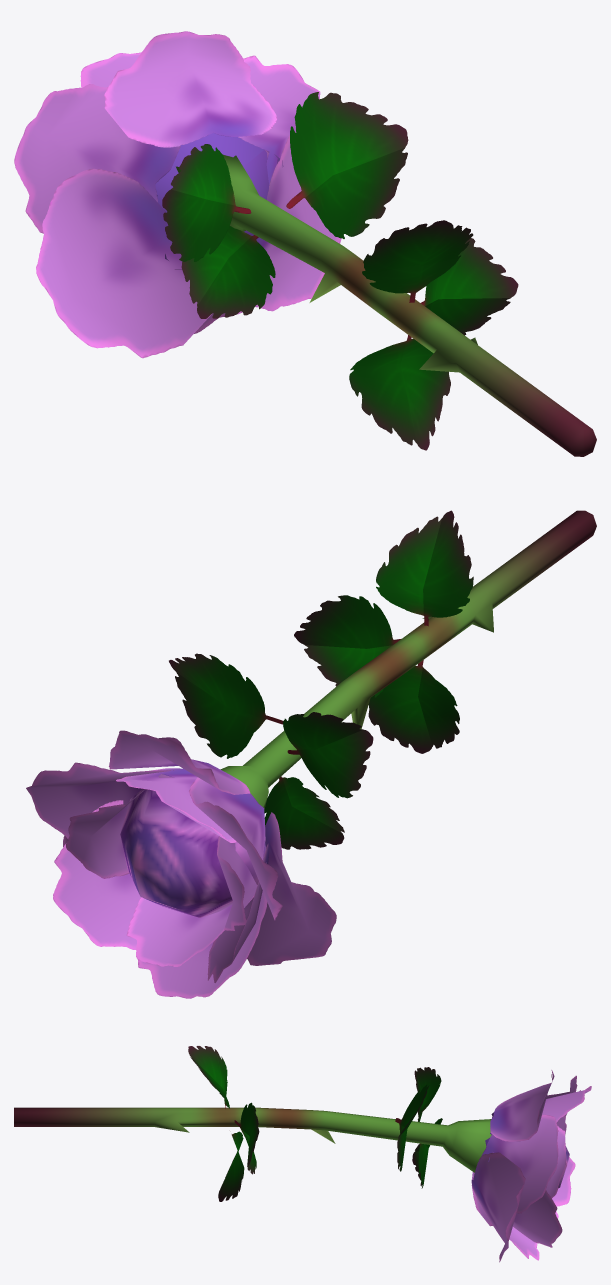
Rendered from SM_Rose_Lilac_Open.fbx.
The picture shows the model from 3 angles, top to bottom: view 1: azimuth 30°, elevation 25°; view 2: azimuth 150°, elevation 25°; view 3: azimuth 270°, elevation 25°; orthographic projection. The views are drawn at different scales.
Parts seen in each view (by area): view 1: Rose_Lilac_Open; view 2: Rose_Lilac_Open; view 3: Rose_Lilac_Open.
Boxes of the visible parts, x1,y1,x2,y2 form: Rose_Lilac_Open: (14, 31, 596, 456); Rose_Lilac_Open: (26, 510, 596, 998); Rose_Lilac_Open: (14, 1046, 591, 1262).
Size of the model in its own units: 50.21 by 50.94 by 127.
